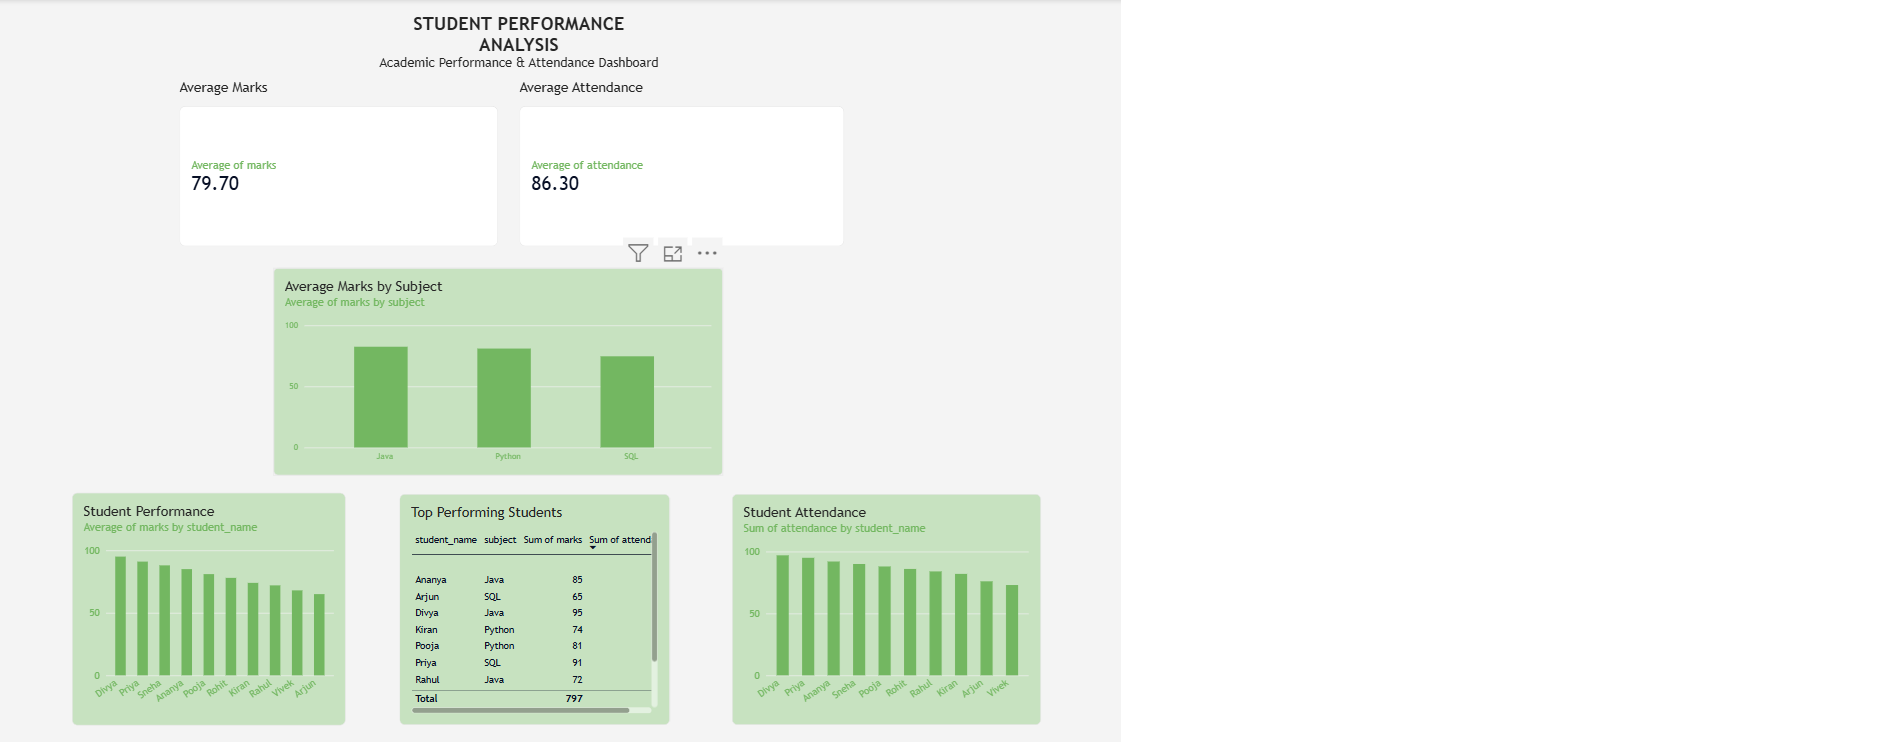

The dashboard page shown, as its layout file describes it:
{"tool":"powerbi","page":{"name":"Page 1","canvas":[1920,1080],"ordinal":0},"visuals":[{"type":"cardVisual","title":"Average Marks","fields":{"Data":["Avg(Table.marks)"]},"box":[628.2,135.7,325.2,160.5],"z":0},{"type":"cardVisual","title":"Average Attendance","fields":{"Data":["Avg(Table.attendance)"]},"box":[1087.3,135.7,325,161],"z":1},{"type":"clusteredColumnChart","title":"Average Marks by Subject","fields":{"Category":["Table.subject"],"Y":["Avg(Table.marks)"]},"box":[743,325.6,607.3,246.3],"z":2},{"type":"clusteredColumnChart","title":"Student Performance","fields":{"Category":["Table.student_name"],"Y":["Avg(Table.marks)"]},"box":[546.8,576,292,202],"z":3},{"type":"clusteredColumnChart","title":"Student Attendance","fields":{"Category":["Table.student_name"],"Y":["Sum(Table.attendance)"]},"box":[1285.6,594.8,302.6,160.7],"z":4},{"type":"tableEx","title":"Top Performing Students","fields":{"Values":["Table.student_name","Table.subject","Sum(Table.marks)","Sum(Table (2).attendance)"]},"box":[859.8,755.5,411.1,325.6],"z":5},{"type":"textbox","box":[839,0,411,326],"z":6},{"type":"textbox","box":[0,895,411,185],"z":7}]}

Visuals, with their boxes on the page's 1920x1080 design canvas (x1, y1, x2, y2). These are canvas units, not pixel positions in the 1879x742 screenshot, which may show the page scaled, cropped or inside an application window:
"Average Marks" cardVisual: rect(628, 136, 953, 296)
"Average Attendance" cardVisual: rect(1087, 136, 1412, 297)
"Average Marks by Subject" clusteredColumnChart: rect(743, 326, 1350, 572)
"Student Performance" clusteredColumnChart: rect(547, 576, 839, 778)
"Student Attendance" clusteredColumnChart: rect(1286, 595, 1588, 756)
"Top Performing Students" tableEx: rect(860, 756, 1271, 1081)
textbox: rect(839, 0, 1250, 326)
textbox: rect(0, 895, 411, 1080)
